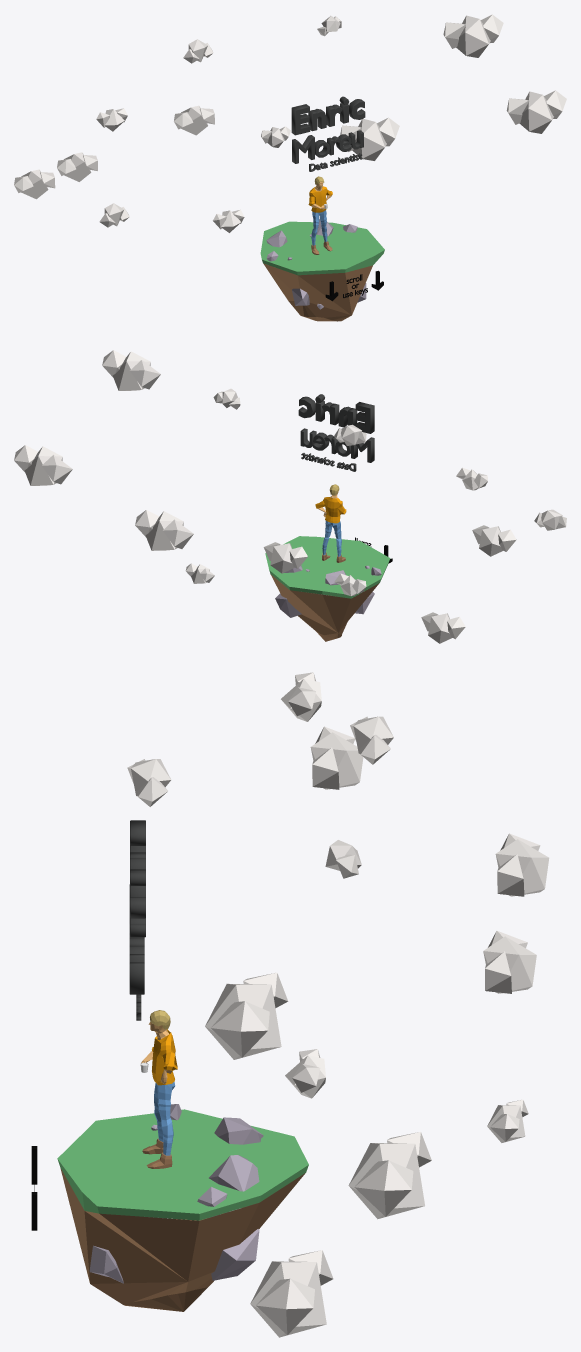
The model's file is title.glb.
3 renders of one model, top to bottom at view 1: azimuth 30°, elevation 25°; view 2: azimuth 150°, elevation 25°; view 3: azimuth 270°, elevation 25°, orthographic. The views are drawn at different scales.
Visible parts, largest first — view 1: Cylinder, Sphere.010, Sphere.007, Text.001, Sphere.004, Text.003, Cylinder.002, Sphere.005, Sphere.008, Sphere.011, Sphere.006, Sphere.001 (+3 smaller); view 2: Cylinder, Text.001, Sphere.007, Sphere.010, Sphere.004, Cylinder.002, Text.003, Sphere.005, Sphere.008, Sphere.011, Sphere.009, Sphere.002 (+4 smaller); view 3: Cylinder, Sphere.010, Sphere.007, Sphere.004, Cylinder.002, Sphere.008, Sphere.005, Sphere.011, Text.001, Sphere.002, Sphere.009, Sphere.001 (+7 smaller).
Part boxes in pixels (box(x1,y1,x2,y2)): Cylinder: box(260, 221, 384, 321); Sphere.010: box(506, 90, 566, 133); Sphere.007: box(443, 14, 503, 57); Text.001: box(291, 96, 365, 135); Sphere.004: box(340, 117, 399, 160); Text.003: box(292, 130, 363, 163); Cylinder.002: box(308, 176, 332, 254); Sphere.005: box(174, 105, 214, 135); Sphere.008: box(14, 169, 55, 199); Sphere.011: box(57, 152, 97, 181); Sphere.006: box(213, 209, 244, 232); Sphere.001: box(96, 108, 127, 131); Cylinder: box(265, 536, 390, 641); Text.001: box(298, 394, 374, 433); Sphere.007: box(102, 350, 160, 390); Sphere.010: box(14, 445, 72, 485); Sphere.004: box(135, 510, 193, 550); Cylinder.002: box(315, 484, 346, 562); Text.003: box(300, 428, 374, 462); Sphere.005: box(263, 542, 307, 573); Sphere.008: box(421, 612, 465, 643); Sphere.011: box(472, 525, 516, 556); Sphere.009: box(534, 509, 566, 530); Sphere.002: box(334, 424, 366, 445); Cylinder: box(57, 1109, 308, 1311); Sphere.010: box(250, 1250, 333, 1337); Sphere.007: box(205, 972, 288, 1059); Sphere.004: box(348, 1131, 431, 1219); Cylinder.002: box(140, 1010, 177, 1168); Sphere.008: box(495, 833, 549, 896); Sphere.005: box(483, 931, 536, 993); Sphere.011: box(310, 726, 363, 789); Text.001: box(130, 820, 145, 937); Sphere.002: box(350, 716, 393, 764); Sphere.009: box(127, 759, 171, 806); Sphere.001: box(281, 672, 321, 721).
Bounding box in the file's own units: 19.29 × 9.68 × 8.61.
